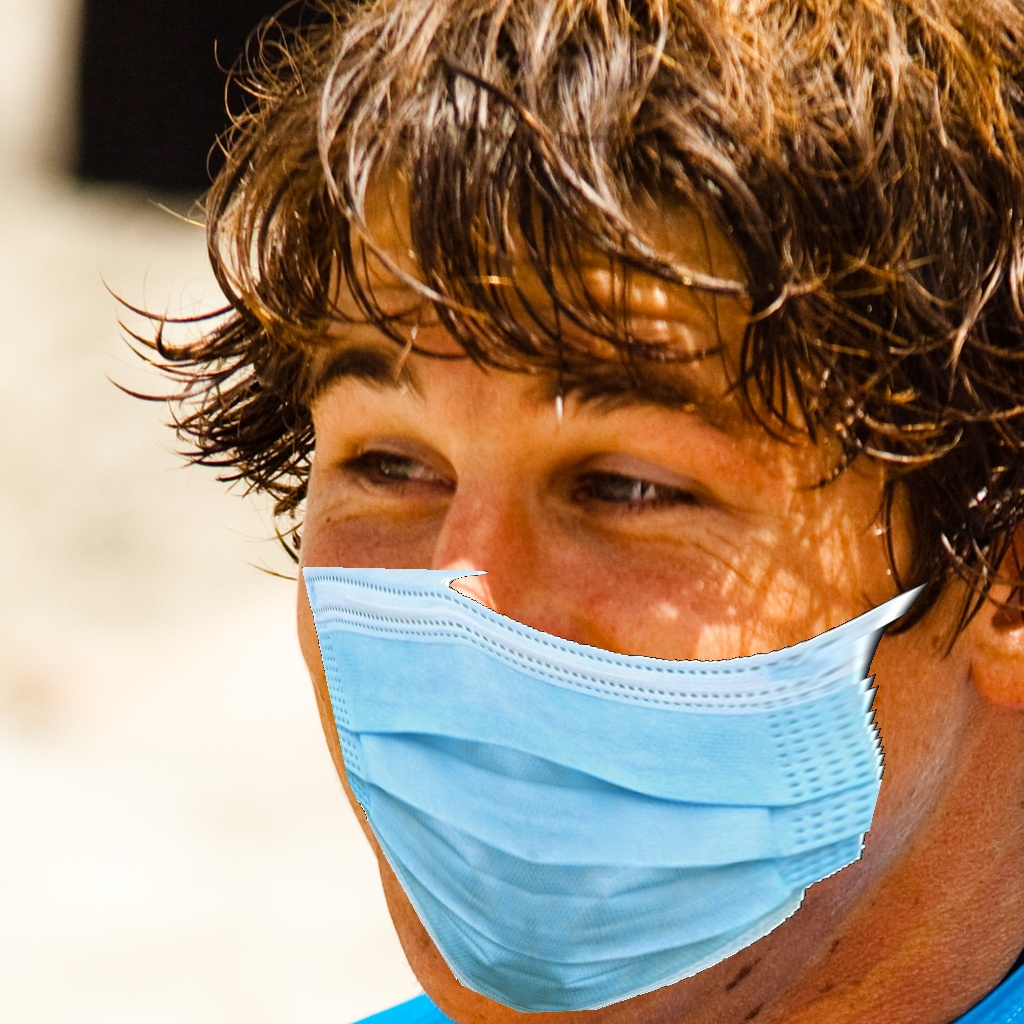Mask: (299, 330, 961, 1014)
